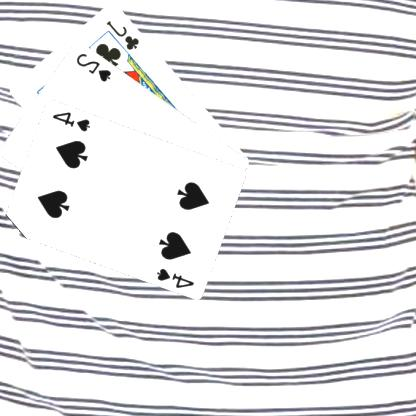2S: (75, 50, 114, 83)
4S: (155, 265, 198, 289), (51, 108, 93, 132)
JC: (105, 17, 142, 52)
